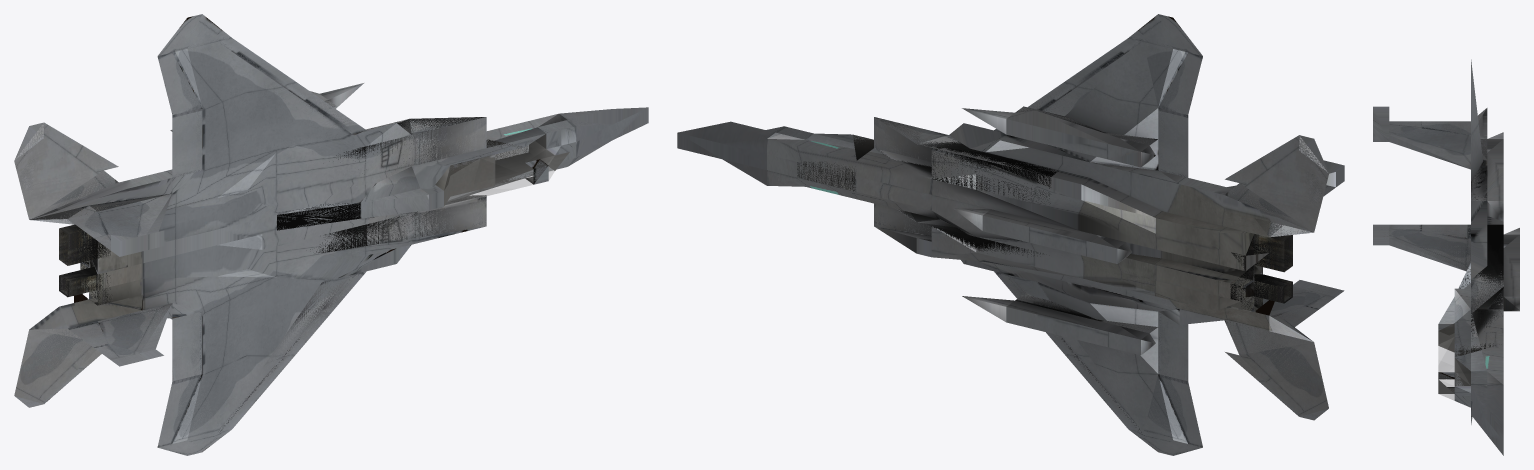
The model's file is drone.obj.
The picture shows the model from 3 angles, left to right: view 1: azimuth 30°, elevation 25°; view 2: azimuth 150°, elevation 25°; view 3: azimuth 270°, elevation 25°; orthographic projection. The views are drawn at different scales.
Parts seen in each view (by area): view 1: F_15_C, GLass; view 2: F_15_C, TAnks; view 3: F_15_C, TAnks, GLass.
Boxes of the visible parts, bbox=[...] form: F_15_C: bbox=[14, 14, 648, 455]; GLass: bbox=[444, 134, 568, 206]; F_15_C: bbox=[677, 14, 1344, 455]; TAnks: bbox=[953, 108, 1155, 355]; F_15_C: bbox=[1373, 59, 1503, 455]; TAnks: bbox=[1487, 132, 1519, 311]; GLass: bbox=[1438, 332, 1470, 400].
Size of the model in its own units: 0.43 by 0.28 by 0.09.
Materials: 2 (1 with a texture image).
